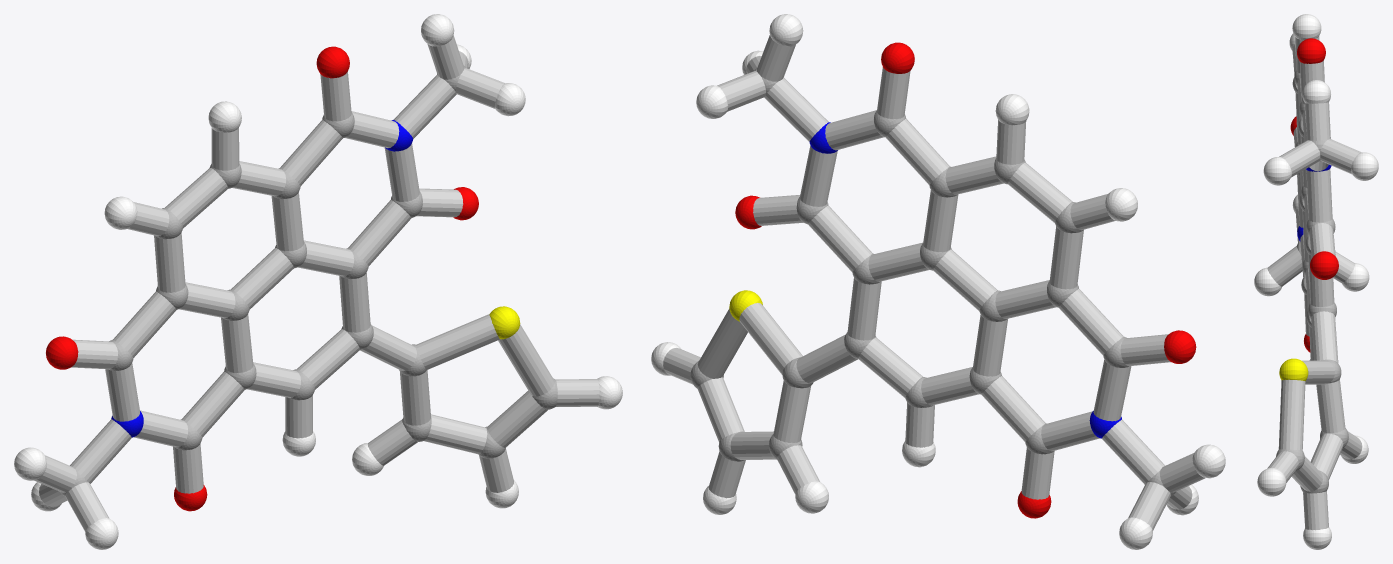
File: Dimethyl_Naphthalene_Dicarboximide_Phi_15_Theta_200_Thiophene.glb
The picture shows the model from 3 angles, left to right: view 1: azimuth 30°, elevation 25°; view 2: azimuth 150°, elevation 25°; view 3: azimuth 270°, elevation 25°; orthographic projection. The views are drawn at different scales.
Parts seen in each view (by area): view 1: grp14119, grp7241, grp1, grp12309, grp13757, grp11585; view 2: grp14119, grp7241, grp1, grp12309, grp11585; view 3: grp14119, grp7241, grp1, grp12309, grp13757.
Boxes of the visible parts, x1,y1,x2,y2 form: grp14119: [34, 35, 599, 531]; grp7241: [14, 14, 622, 549]; grp1: [60, 65, 557, 496]; grp12309: [46, 46, 478, 511]; grp13757: [489, 306, 520, 339]; grp11585: [111, 120, 413, 437]; grp14119: [663, 35, 1205, 530]; grp7241: [651, 14, 1225, 549]; grp1: [690, 68, 1175, 496]; grp12309: [735, 42, 1196, 518]; grp11585: [809, 122, 1121, 438]; grp14119: [1267, 36, 1362, 530]; grp7241: [1254, 14, 1378, 549]; grp1: [1276, 70, 1348, 493]; grp12309: [1290, 38, 1338, 352]; grp13757: [1279, 358, 1308, 381].
Size of the model in its own units: 12.09 by 10.05 by 2.58.
